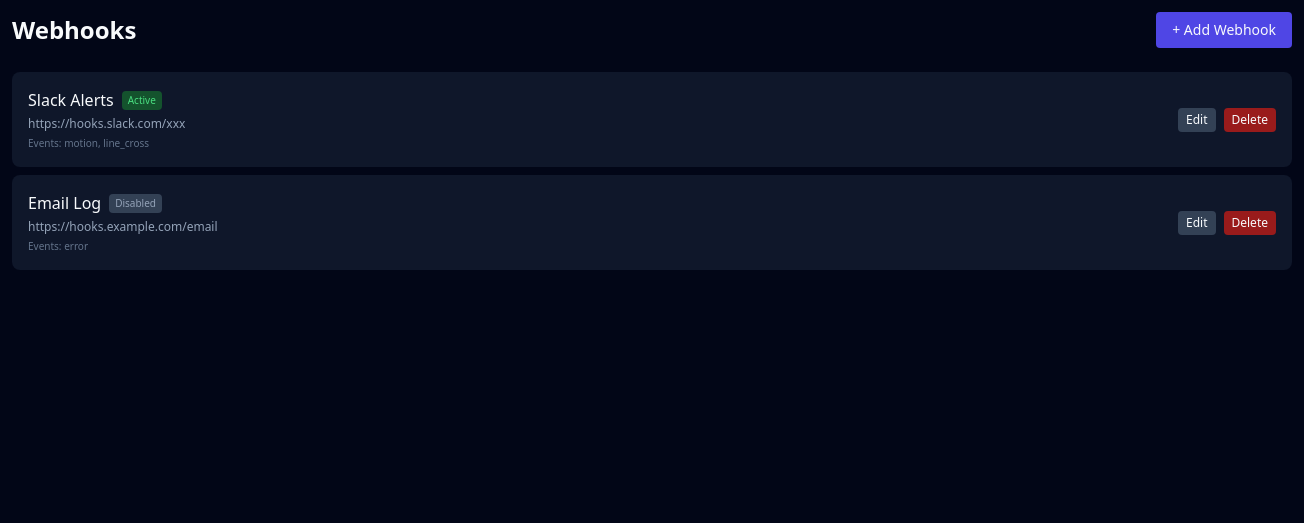
WebhooksPage › pre-fills form when clicking Edit
The width and height of the screenshot is (1304, 523).
expect the text "Slack Alerts" is shown: met, box [28,88,114,112]
Click the button "Edit" in the row of "https://hooks.slack.com/xxx".
click(1197, 120)  # box [1178,108,1216,132]
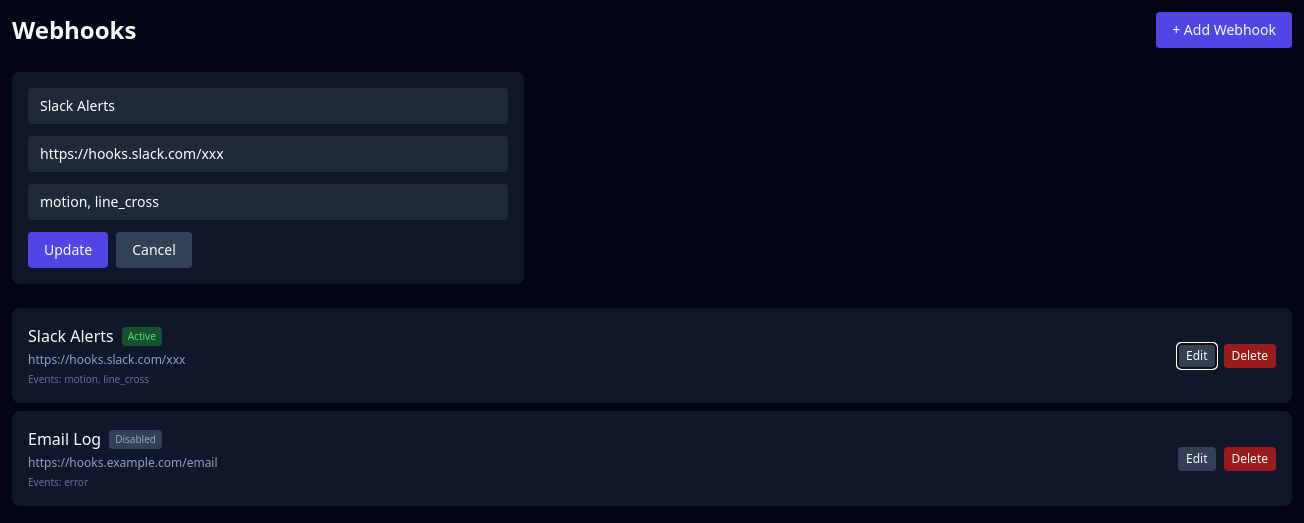
expect the 1st field with placeholder "Name" holds "Slack Alerts": met, box [28,88,508,124]
expect the 2nd field with placeholder "URL (https://...)" holds "https://hooks.slack.com/xxx": met, box [28,136,508,172]
expect the button "Update" is shown: met, box [28,232,108,268]
